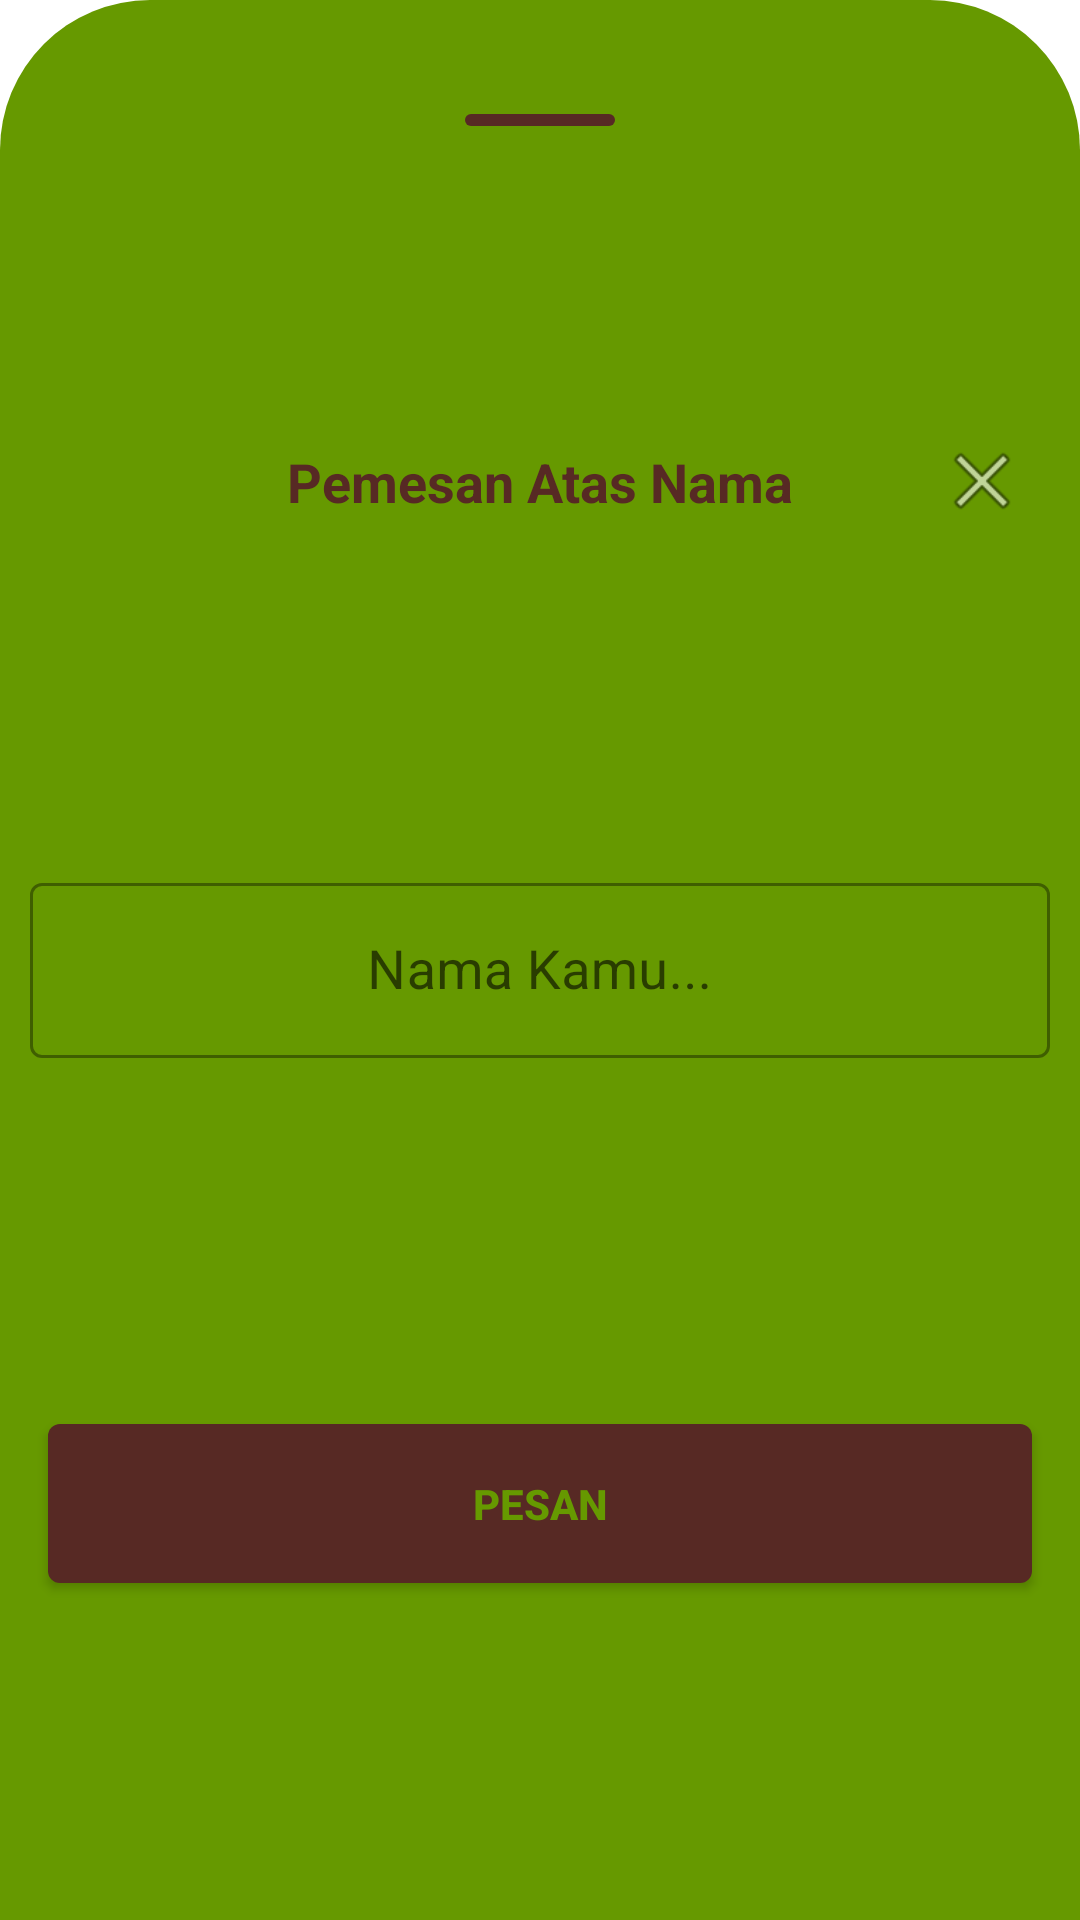

Screen size 1080*1920. Icon name, then its box in pixels as (x1, y1, x2, y2):
close clear cancel: (954, 453, 1010, 509)
